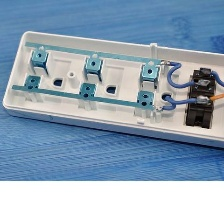three_eye_plug: (0, 27, 224, 153)
